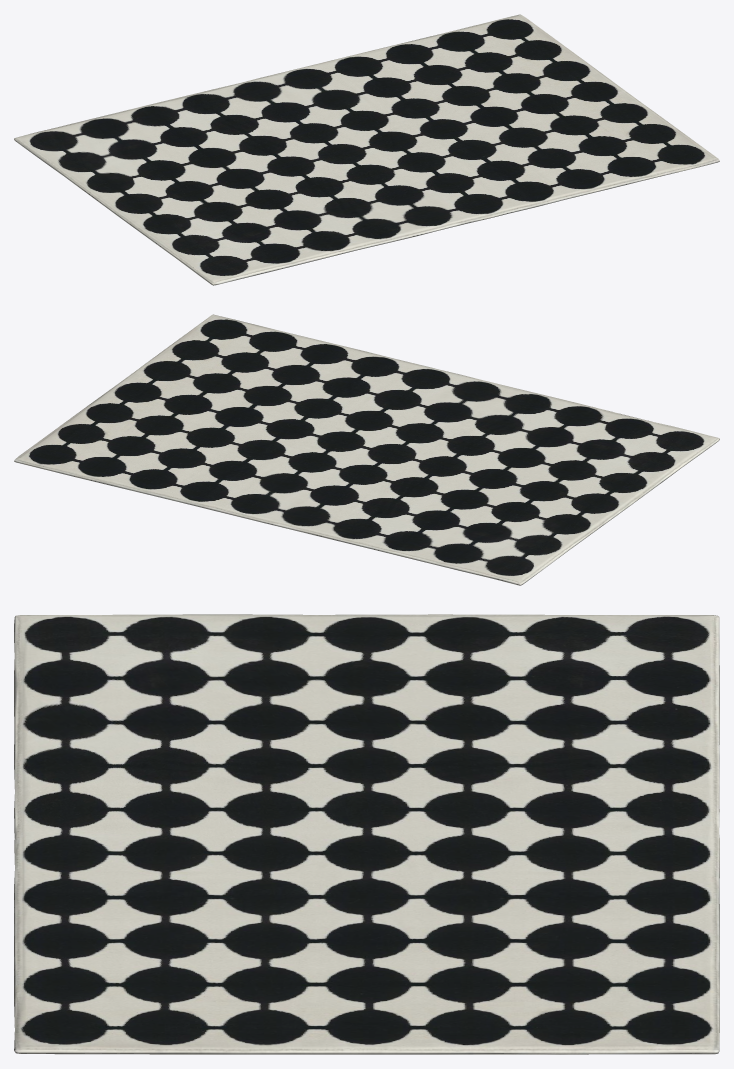
Rendered from vandplats_dywan_z_krotkim_wosiem_30600939.glb.
The picture shows the model from 3 angles, top to bottom: view 1: azimuth 30°, elevation 25°; view 2: azimuth 150°, elevation 25°; view 3: azimuth 270°, elevation 25°; orthographic projection. The views are drawn at different scales.
Visible parts, largest first — view 1: vandplats_dywan_z_krotkim_wosiem_30600939; view 2: vandplats_dywan_z_krotkim_wosiem_30600939; view 3: vandplats_dywan_z_krotkim_wosiem_30600939.
Part boxes in pixels (x1,y1,x2,y2): vandplats_dywan_z_krotkim_wosiem_30600939: (14, 14, 719, 285); vandplats_dywan_z_krotkim_wosiem_30600939: (14, 314, 719, 585); vandplats_dywan_z_krotkim_wosiem_30600939: (14, 614, 719, 1054).
Size of the model in its own units: 1.95 by 0.0138 by 1.33.
Materials: 1 (1 with a texture image).
